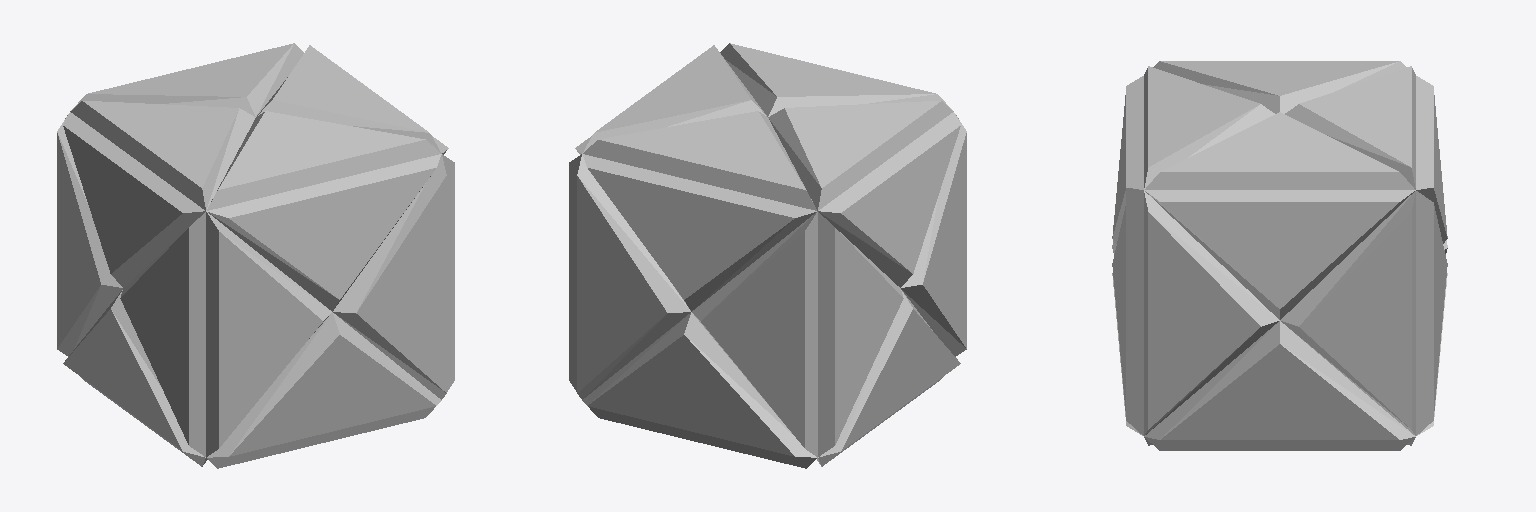
File: crackattackcubehires.obj
The picture shows the model from 3 angles: view 1: azimuth 30°, elevation 25°; view 2: azimuth 150°, elevation 25°; view 3: azimuth 270°, elevation 25°; orthographic projection.
Visible parts, largest first — view 1: cube1; view 2: cube1; view 3: cube1.
Part boxes in pixels (left/top/right/bottom): cube1: left=57, top=43, right=454, bottom=468; cube1: left=569, top=43, right=966, bottom=468; cube1: left=1112, top=61, right=1447, bottom=450.
Size of the model in its own units: 1.97 by 1.97 by 1.97.